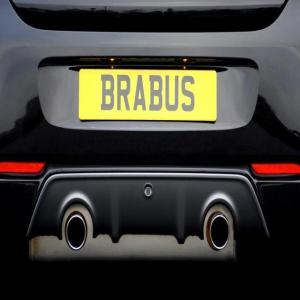Plate: (78, 66, 220, 123)
